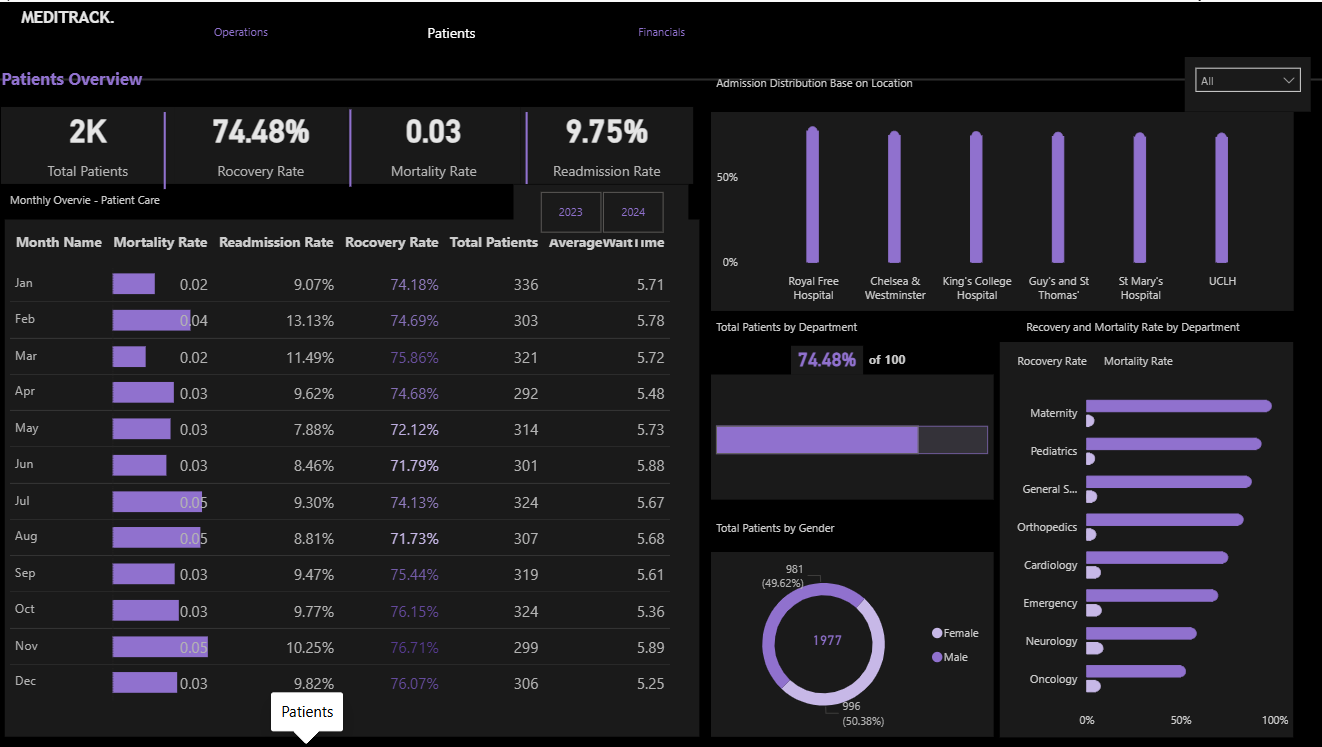

The dashboard page shown, as its layout file describes it:
{"tool":"powerbi","page":{"name":"Patients","canvas":[1280,720],"ordinal":1},"visuals":[{"type":"cardVisual","fields":{"Data":["CalenderDim.Total Patients","CalenderDim.Rocovery Rate","CalenderDim.Mortality Rate","CalenderDim.Readmission Rate"]},"box":[0,96.5,679.2,84.5],"z":0},{"type":"textbox","box":[8.4,176.1,207.5,33.8],"z":1000},{"type":"clusteredColumnChart","fields":{"Category":["HospitalDim.HospitalName"],"Y":["CalenderDim.Rocovery Rate"]},"box":[690.1,106.2,562.2,191.8],"z":2000},{"type":"textbox","box":[690.1,298,243.7,30.2],"z":3000},{"type":"clusteredBarChart","fields":{"Category":["DepartmentDim.DepartmentName"],"Y":["CalenderDim.Rocovery Rate","CalenderDim.Mortality Rate"]},"box":[968.8,328.2,283.5,381.2],"z":4000},{"type":"textbox","box":[989.3,298,257,38.6],"z":5000},{"type":"textbox","box":[690.1,62.7,294.4,41],"z":6000},{"type":"shape","box":[139.9,106.2,45.8,74.8],"z":7000},{"type":"shape","box":[320.9,103.8,42.2,74.8],"z":8000},{"type":"shape","box":[486.2,106.2,51.9,70],"z":9000},{"type":"shape","box":[0,48.3,1280,53.1],"z":10000},{"type":"textbox","box":[19.3,0,207.5,36.2],"z":11000},{"type":"slicer","fields":{"Values":["HospitalDim.HospitalName"]},"box":[1147.3,53.1,121.9,53.1],"z":12000},{"type":"textbox","box":[0,57.9,207.5,33.8],"z":13000},{"type":"pageNavigator","box":[139.9,8.4,599.6,41],"z":14000},{"type":"donutChart","fields":{"Y":["CalenderDim.Total Patients"],"Category":["PatientDim.Gender"]},"box":[690.1,530.8,272.7,178.6],"z":15000},{"type":"textbox","box":[690.1,492.2,272.7,38.6],"z":17000},{"type":"clusteredBarChart","fields":{"Y":["CalenderDim.Rocovery Rate","CalenderDim.One"]},"box":[690.1,359.5,272.7,120.6],"z":18000},{"type":"textbox","box":[837.3,328.2,96.5,43.4],"z":19000},{"type":"pivotTable","fields":{"Rows":["CalenderDim.Month Name"],"Values":["CalenderDim.Mortality Rate","CalenderDim.Readmission Rate","CalenderDim.Rocovery Rate","CalenderDim.Total Patients","MeasureTable.AverageWaitTime"]},"box":[8.4,209.9,670.8,499.5],"z":20000},{"type":"slicer","fields":{"Values":["CalenderDim.Year"]},"box":[499.5,176.1,168.9,53.1],"z":21000},{"type":"card","fields":{"Values":["CalenderDim.Total Patients"]},"box":[767.3,599.6,70,35],"z":21001},{"type":"card","fields":{"Values":["CalenderDim.Rocovery Rate"]},"box":[767.3,331.8,70,27.7],"z":21002}]}

Visuals, with their boxes in screenshot pixels (x1, y1, x2, y2), scaled from the page's 1280x720 canvas onto the 1322x747 screenshot:
cardVisual - CalenderDim.Total Patients x CalenderDim.Rocovery Rate: <region>0, 100, 701, 188</region>
textbox: <region>9, 183, 223, 218</region>
clusteredColumnChart - HospitalDim.HospitalName x CalenderDim.Rocovery Rate: <region>713, 110, 1293, 309</region>
textbox: <region>713, 309, 964, 341</region>
clusteredBarChart - DepartmentDim.DepartmentName x CalenderDim.Rocovery Rate: <region>1001, 341, 1293, 736</region>
textbox: <region>1022, 309, 1287, 349</region>
textbox: <region>713, 65, 1017, 108</region>
shape: <region>144, 110, 192, 188</region>
shape: <region>331, 108, 375, 185</region>
shape: <region>502, 110, 556, 183</region>
shape: <region>0, 50, 1321, 105</region>
textbox: <region>20, 0, 234, 38</region>
slicer - HospitalDim.HospitalName: <region>1185, 55, 1311, 110</region>
textbox: <region>0, 60, 214, 95</region>
pageNavigator: <region>144, 9, 764, 51</region>
donutChart - CalenderDim.Total Patients x PatientDim.Gender: <region>713, 551, 994, 736</region>
textbox: <region>713, 511, 994, 551</region>
clusteredBarChart - CalenderDim.Rocovery Rate x CalenderDim.One: <region>713, 373, 994, 498</region>
textbox: <region>865, 341, 964, 386</region>
pivotTable - CalenderDim.Month Name x CalenderDim.Mortality Rate: <region>9, 218, 701, 736</region>
slicer - CalenderDim.Year: <region>516, 183, 690, 238</region>
card - CalenderDim.Total Patients: <region>792, 622, 865, 658</region>
card - CalenderDim.Rocovery Rate: <region>792, 344, 865, 373</region>
